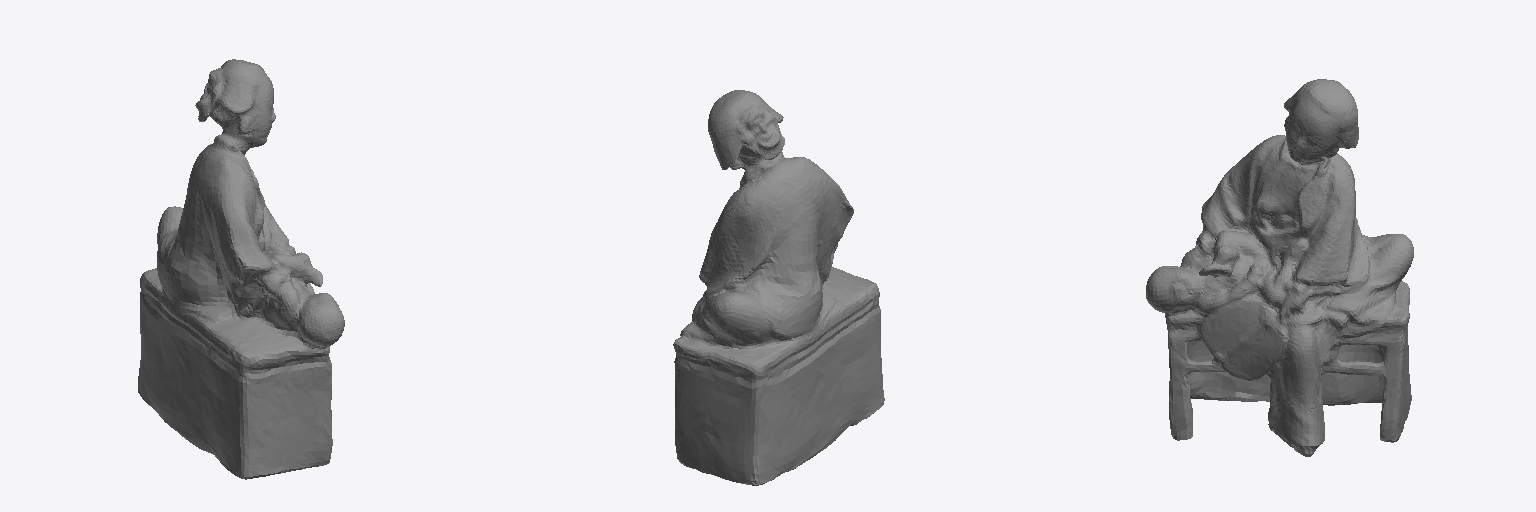
3 views of the same model, side by side, from view 1: azimuth 30°, elevation 25°; view 2: azimuth 150°, elevation 25°; view 3: azimuth 270°, elevation 25° (orthographic).
Visible parts, largest first — view 1: szb_wy_31; view 2: szb_wy_31; view 3: szb_wy_31.
Boxes of the visible parts, x1,y1,x2,y2 form: szb_wy_31: [138, 59, 344, 479]; szb_wy_31: [673, 90, 884, 485]; szb_wy_31: [1146, 79, 1413, 456].
Bounding box in the file's own units: 0.055 × 0.1398 × 0.0962.